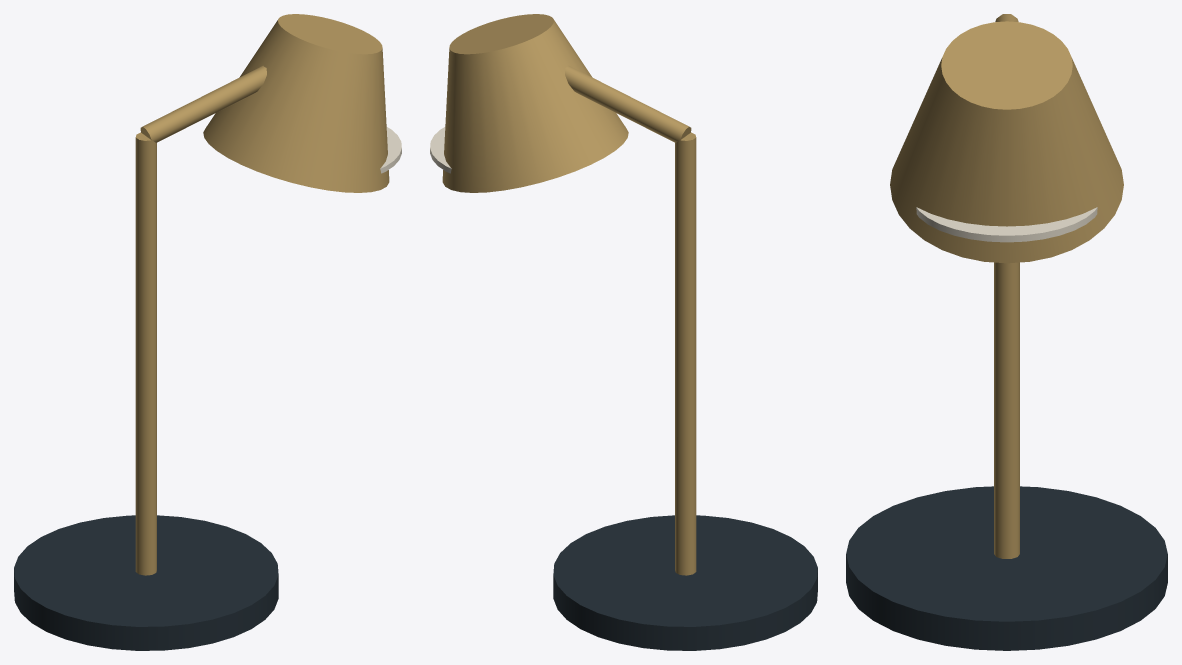
File: officeBrassTask.glb
3 renders of one model, left to right at view 1: azimuth 30°, elevation 25°; view 2: azimuth 150°, elevation 25°; view 3: azimuth 270°, elevation 25°, orthographic. The views are drawn at different scales.
Bounding box in the file's own units: 0.345 × 0.4858 × 0.22.
